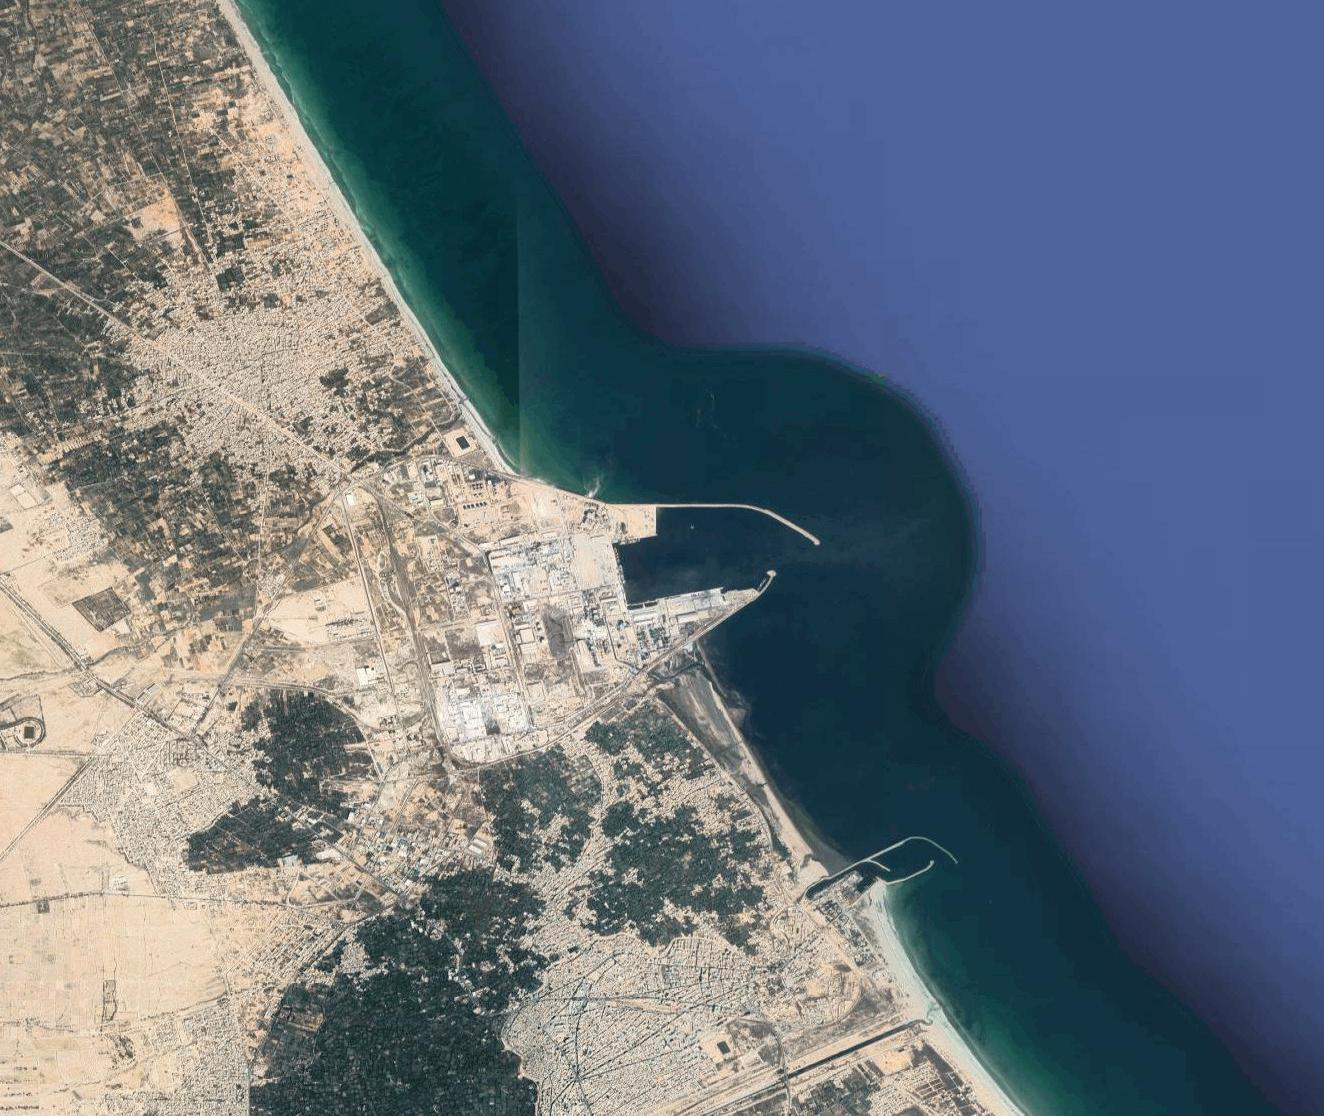harbor: (594, 467, 832, 650)
